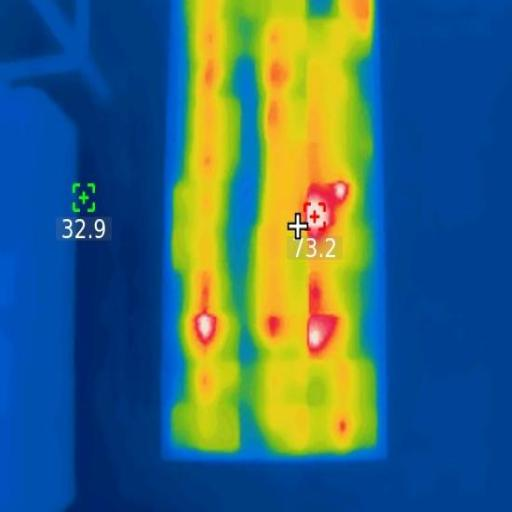hotspot: (304, 178, 348, 246), (309, 282, 332, 354), (192, 310, 220, 342), (267, 314, 283, 341)
